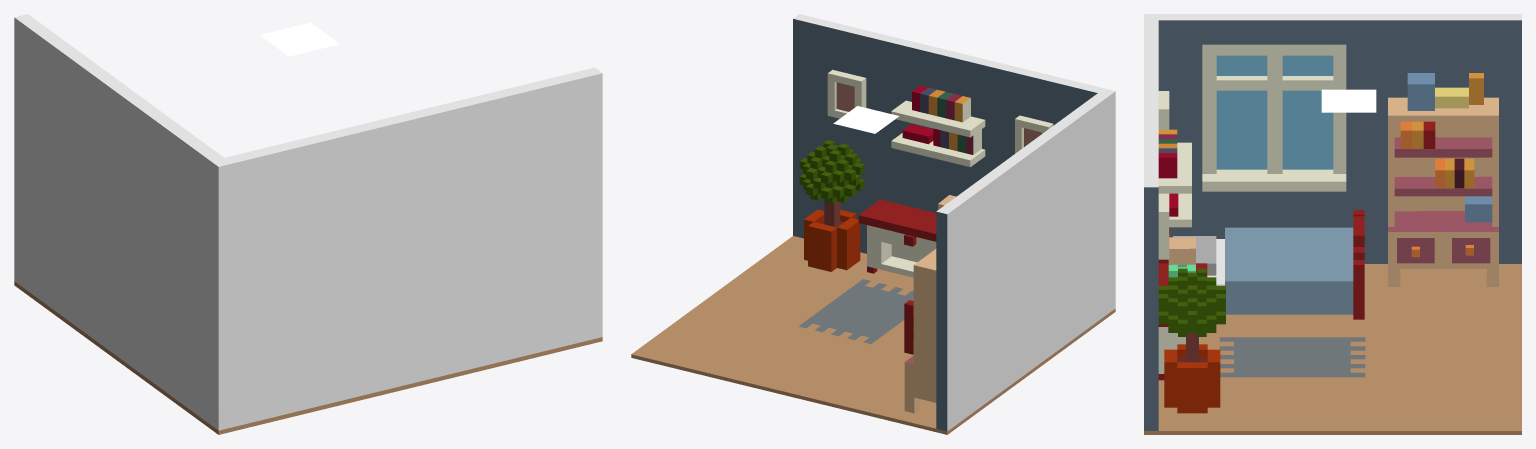
3 renders of one model, left to right at view 1: azimuth 30°, elevation 25°; view 2: azimuth 150°, elevation 25°; view 3: azimuth 270°, elevation 25°, orthographic. The views are drawn at different scales.
Visible parts, largest first — view 1: Object_24, Object_5, Object_0Light; view 2: Object_24, Object_25, Object_5, Object_31, Object_19, Object_3, Object_6, Object_28, Object_33, Object_27, Object_0Light, Object_34 (+1 smaller); view 3: Object_25, Object_5, Object_22, Object_7, Object_19, Object_8, Object_18, Object_31, Object_3, Object_24, Object_6, Object_28 (+13 smaller).
Part boxes in pixels (box(x1,y1,x2,y2)): Object_24: box(14, 14, 602, 430); Object_5: box(14, 281, 602, 434); Object_0Light: box(260, 22, 339, 56); Object_24: box(793, 14, 1115, 431); Object_25: box(793, 19, 1097, 431); Object_5: box(631, 236, 1115, 434); Object_31: box(827, 69, 1053, 167); Object_19: box(904, 249, 936, 413); Object_3: box(798, 279, 913, 343); Object_6: box(799, 140, 864, 204); Object_28: box(804, 209, 860, 271); Object_33: box(858, 199, 936, 340); Object_27: box(867, 225, 936, 277); Object_0Light: box(833, 106, 899, 133); Object_34: box(902, 85, 940, 146); Object_25: box(1144, 20, 1521, 430); Object_5: box(1144, 264, 1521, 434); Object_22: box(1225, 227, 1353, 314); Object_7: box(1216, 55, 1333, 169); Object_19: box(1388, 97, 1498, 286); Object_8: box(1202, 44, 1346, 173); Object_18: box(1388, 137, 1498, 263); Object_31: box(1158, 76, 1346, 259); Object_3: box(1219, 337, 1365, 377); Object_24: box(1144, 14, 1521, 187); Object_6: box(1158, 268, 1225, 336); Object_28: box(1164, 344, 1220, 413).
Bounding box in the file's own units: 15 × 10 × 13.83.
